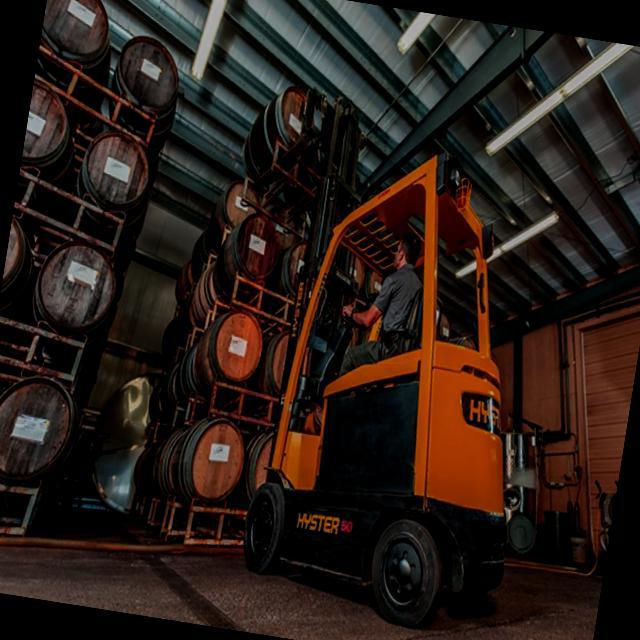driver: (339, 220, 433, 370)
forklift: (230, 89, 580, 640)
